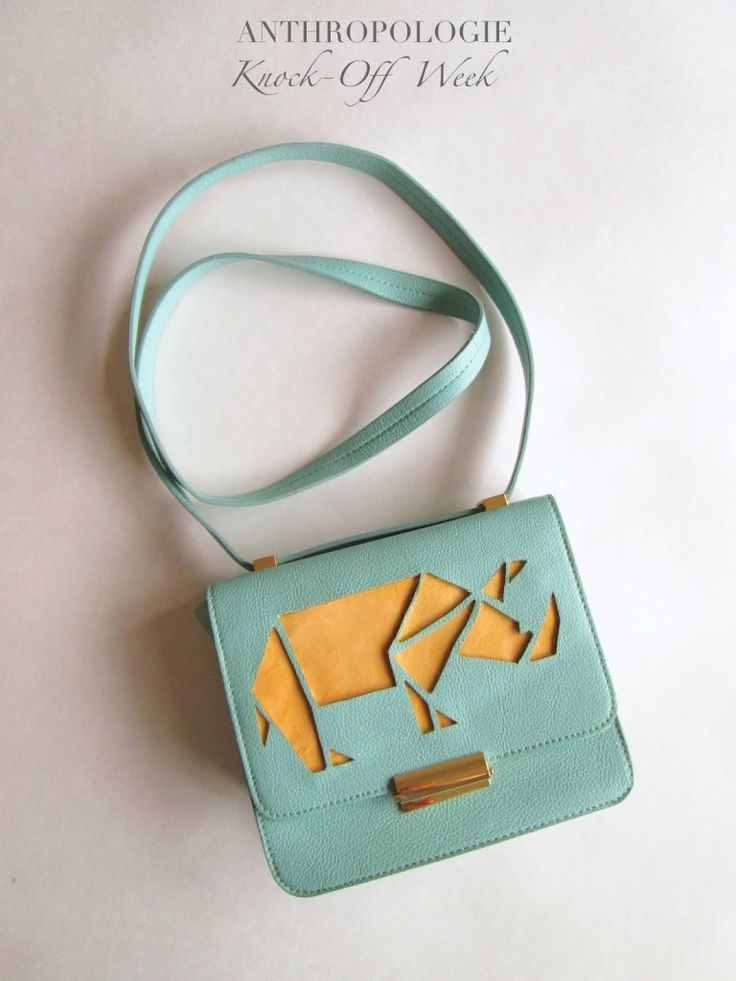cuero: (129, 140, 636, 900)
